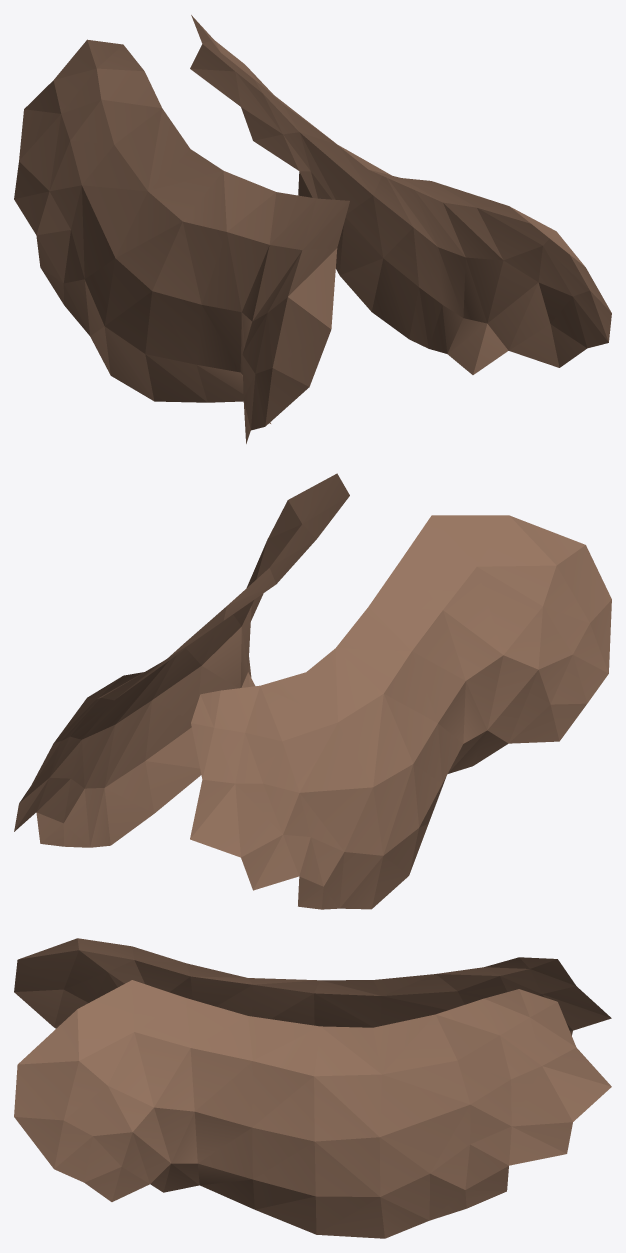
Rendered from Horse_V7.5_178p.fbx.
The picture shows the model from 3 angles, top to bottom: view 1: azimuth 30°, elevation 25°; view 2: azimuth 150°, elevation 25°; view 3: azimuth 270°, elevation 25°; orthographic projection. The views are drawn at different scales.
Visible parts, largest first — view 1: Horse.v4.Full.097, Horse.v4.Full.138, Horse.v4.Full.178, Horse.v4.Full.159, Horse.v4.Full.092, Horse.v4.Full.142, Horse.v4.Full.103, Horse.v4.Full.091, Horse.v4.Full.126, Horse.v4.Full.172, Horse.v4.Full.144, Horse.v4.Full.145 (+91 smaller); view 2: Horse.v4.Full.097, Horse.v4.Full.155, Horse.v4.Full.096, Horse.v4.Full.152, Horse.v4.Full.177, Horse.v4.Full.091, Horse.v4.Full.179, Horse.v4.Full.119, Horse.v4.Full.174, Horse.v4.Full.176, Horse.v4.Full.092, Horse.v4.Full.103 (+88 smaller); view 3: Horse.v4.Full.084, Horse.v4.Full.085, Horse.v4.Full.089, Horse.v4.Full.090, Horse.v4.Full.039, Horse.v4.Full.043, Horse.v4.Full.029, Horse.v4.Full.009, Horse.v4.Full.088, Horse.v4.Full.036, Horse.v4.Full.078, Horse.v4.Full.022 (+105 smaller).
Boxes of the visible parts, x1,y1,x2,y2 form: Horse.v4.Full.097: (82, 185, 147, 257); Horse.v4.Full.138: (152, 222, 201, 304); Horse.v4.Full.178: (288, 248, 337, 328); Horse.v4.Full.159: (272, 297, 330, 367); Horse.v4.Full.092: (115, 222, 182, 290); Horse.v4.Full.142: (183, 221, 226, 304); Horse.v4.Full.103: (114, 108, 162, 190); Horse.v4.Full.091: (116, 191, 182, 257); Horse.v4.Full.126: (145, 291, 195, 364); Horse.v4.Full.172: (227, 232, 269, 311); Horse.v4.Full.144: (223, 171, 275, 231); Horse.v4.Full.145: (202, 232, 241, 311); Horse.v4.Full.097: (299, 723, 372, 792); Horse.v4.Full.155: (477, 567, 542, 654); Horse.v4.Full.096: (300, 787, 372, 851); Horse.v4.Full.152: (443, 567, 503, 654); Horse.v4.Full.177: (477, 515, 556, 566); Horse.v4.Full.091: (338, 694, 383, 786); Horse.v4.Full.179: (432, 515, 508, 566); Horse.v4.Full.119: (190, 784, 240, 857); Horse.v4.Full.174: (368, 560, 442, 609); Horse.v4.Full.176: (401, 515, 476, 566); Horse.v4.Full.092: (373, 694, 413, 786); Horse.v4.Full.103: (260, 686, 337, 741); Horse.v4.Full.084: (379, 1074, 469, 1136); Horse.v4.Full.085: (380, 1105, 469, 1173); Horse.v4.Full.089: (314, 1076, 379, 1141); Horse.v4.Full.090: (314, 1074, 381, 1136); Horse.v4.Full.039: (252, 1061, 313, 1127); Horse.v4.Full.043: (252, 1076, 314, 1141); Horse.v4.Full.029: (134, 1032, 190, 1106); Horse.v4.Full.009: (190, 1048, 252, 1111); Horse.v4.Full.088: (315, 1137, 380, 1196); Horse.v4.Full.036: (195, 1061, 252, 1127); Horse.v4.Full.078: (382, 1015, 457, 1074); Horse.v4.Full.022: (18, 1061, 78, 1119).
Size of the model in its own units: 84.26 by 61.51 by 150.
